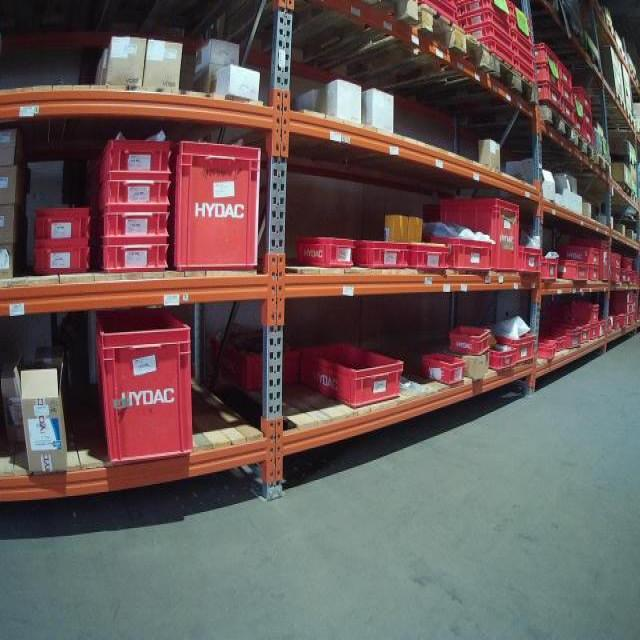pallet: (313, 0, 495, 89), (194, 0, 422, 69), (387, 34, 543, 105), (430, 107, 579, 154), (572, 132, 596, 166), (599, 160, 615, 181)
small_load_carrier: (90, 301, 193, 467), (173, 140, 262, 271), (295, 338, 405, 407), (424, 198, 517, 277), (210, 321, 298, 392), (81, 134, 171, 178), (88, 169, 171, 213), (426, 231, 495, 277), (86, 206, 174, 241), (95, 240, 174, 274), (30, 204, 96, 243), (31, 243, 89, 278), (495, 328, 538, 373), (415, 349, 465, 386), (295, 237, 352, 269), (354, 237, 409, 269), (413, 2, 461, 32), (461, 25, 515, 51), (459, 11, 511, 37), (408, 243, 450, 274), (552, 244, 604, 269), (448, 326, 492, 355), (542, 318, 578, 352), (531, 41, 560, 76), (482, 40, 513, 71), (488, 347, 520, 376), (534, 332, 567, 360), (595, 241, 615, 284), (459, 1, 513, 16), (536, 84, 562, 113), (522, 244, 542, 278), (562, 259, 588, 285), (534, 66, 561, 90), (570, 300, 600, 321), (514, 60, 537, 86), (513, 42, 534, 70), (570, 315, 589, 344), (514, 4, 533, 29), (511, 33, 532, 55), (538, 340, 558, 362), (575, 87, 591, 114), (544, 254, 558, 284), (515, 21, 533, 43), (578, 102, 594, 126), (583, 266, 601, 287), (572, 113, 586, 139), (590, 322, 606, 344), (598, 317, 614, 339), (561, 81, 575, 105), (561, 60, 573, 87), (612, 312, 628, 332), (564, 102, 574, 131), (586, 124, 597, 148), (588, 321, 600, 339)
